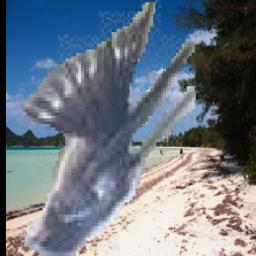Swallow: (20, 0, 197, 256)
